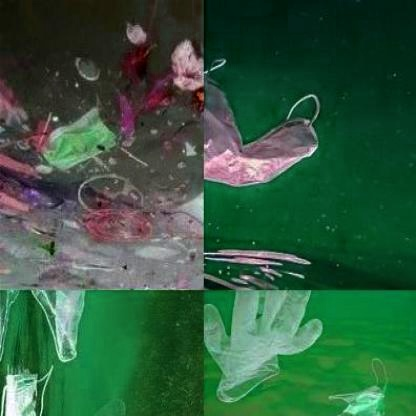Mask: (204, 56, 333, 191), (320, 350, 404, 415), (36, 106, 116, 172), (0, 356, 62, 415)
glove: (204, 290, 324, 407), (10, 290, 190, 365), (216, 290, 282, 324)
